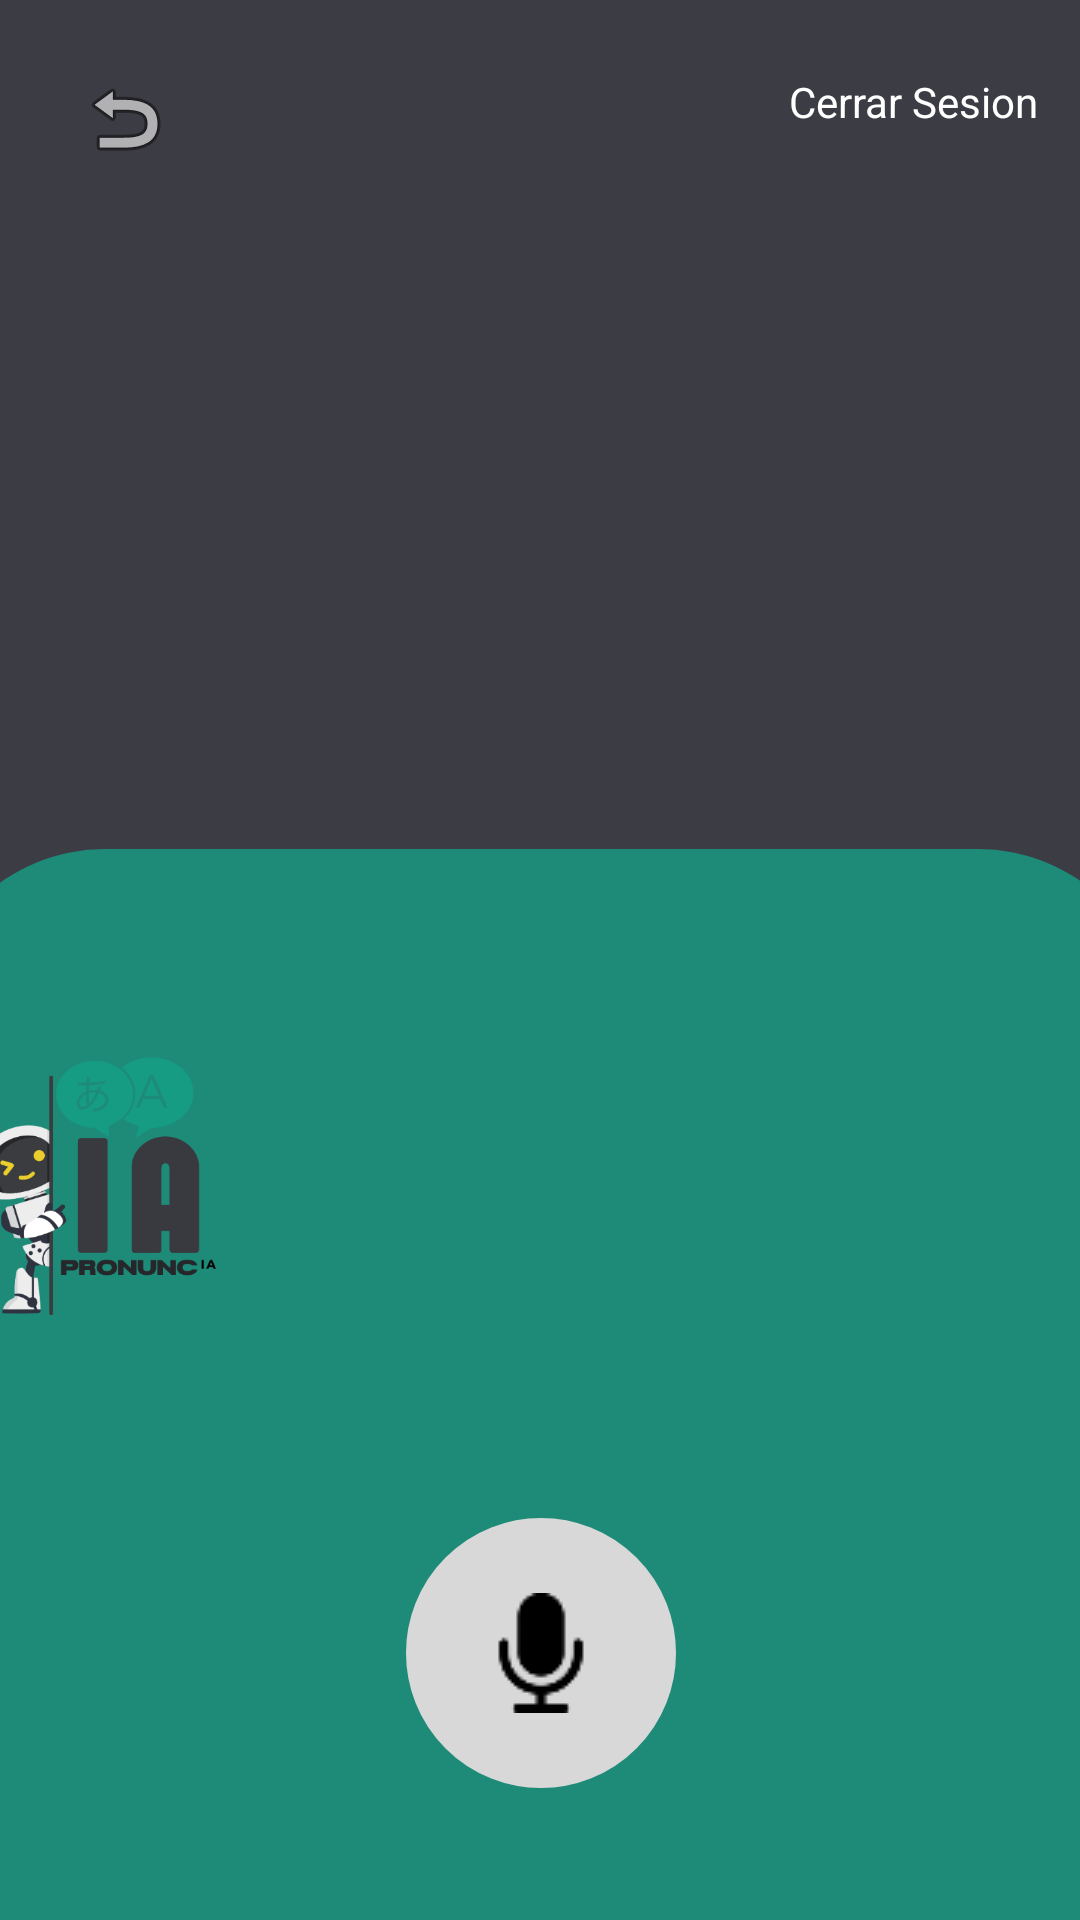

Where icons sit on this 1080*1920 app screen, as (x1, y1, x2, y2):
mic: (406, 1518, 676, 1788)
revert: (92, 89, 160, 150)
